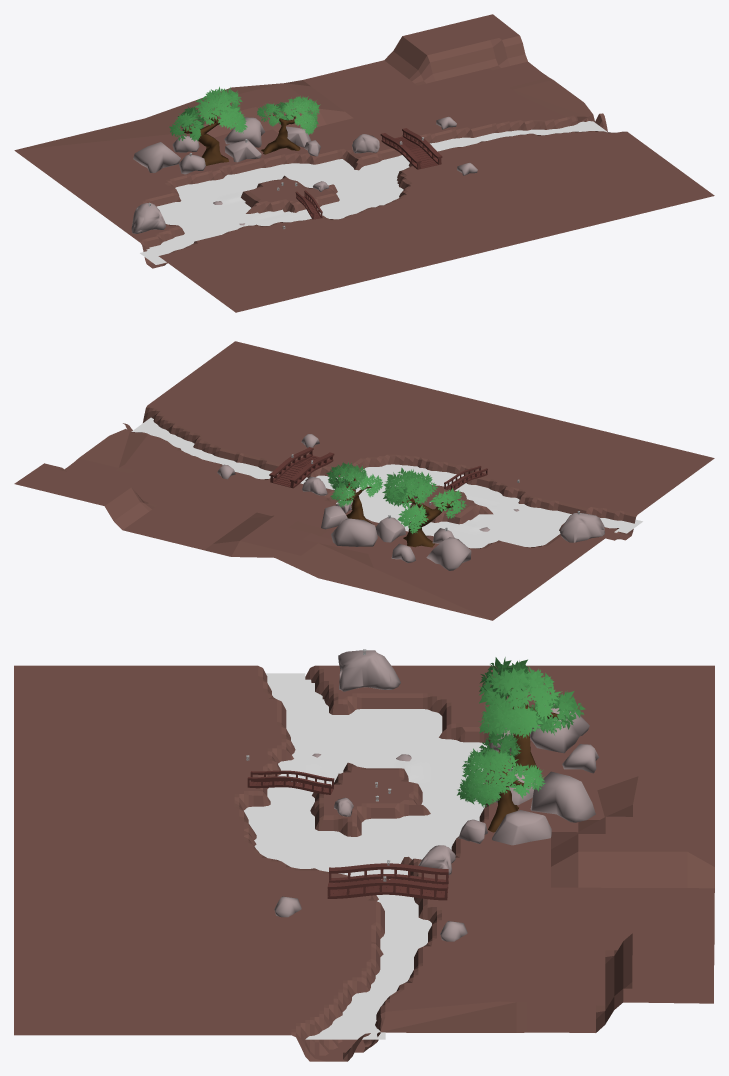
File: game_world.glb
3 views of the same model, one above another, from view 1: azimuth 30°, elevation 25°; view 2: azimuth 150°, elevation 25°; view 3: azimuth 270°, elevation 25° (orthographic). The views are drawn at different scales.
Visible parts, largest first — view 1: Ground, Water.001, leaf.001, leaf.002, bridge.002, Stone.014, Stone.001, Plane.004, Stone.010, Plane.001, Stone.006; view 2: Ground, Water.001, leaf.001, leaf.002, bridge.002, Stone.010, Stone.001, Stone.014, Plane.004, Stone.006, bridge.003, Stone.009; view 3: Ground, Water.001, leaf.001, leaf.002, bridge.002, Stone.010, Stone.001, Stone.009, bridge.003, Stone.014, Stone.008, Plane.001 (+1 smaller).
Boxes of the visible parts, x1,y1,x2,y2 form: Ground: (14, 14, 714, 312); Water.001: (140, 121, 607, 264); leaf.001: (169, 86, 247, 141); leaf.002: (257, 96, 320, 135); bridge.002: (380, 128, 442, 169); Stone.014: (133, 142, 180, 172); Stone.001: (131, 203, 165, 233); Plane.004: (184, 113, 228, 165); Stone.010: (224, 117, 264, 147); Plane.001: (261, 111, 307, 154); Stone.006: (225, 140, 261, 162); Ground: (14, 341, 714, 620); Water.001: (131, 417, 642, 548); leaf.001: (382, 467, 466, 533); leaf.002: (326, 462, 382, 507); bridge.002: (269, 447, 334, 488); Stone.010: (331, 518, 377, 546); Stone.001: (560, 513, 604, 542); Stone.014: (426, 537, 471, 570); Plane.004: (402, 482, 454, 547); Stone.006: (375, 517, 405, 542); bridge.003: (444, 466, 487, 490); Stone.009: (321, 505, 347, 529); Ground: (14, 665, 714, 1061); Water.001: (244, 673, 487, 1039); leaf.001: (478, 657, 585, 737); leaf.002: (457, 730, 545, 807); bridge.002: (327, 863, 448, 900); Stone.010: (530, 771, 595, 822); Stone.001: (338, 650, 400, 691); Stone.009: (492, 810, 551, 845); bridge.003: (247, 770, 334, 794); Stone.014: (529, 704, 589, 753); Stone.008: (562, 744, 599, 773); Plane.001: (483, 749, 528, 832).
Size of the model in its own units: 83.22 by 16.5 by 66.09.
6 materials, 1 textured.
